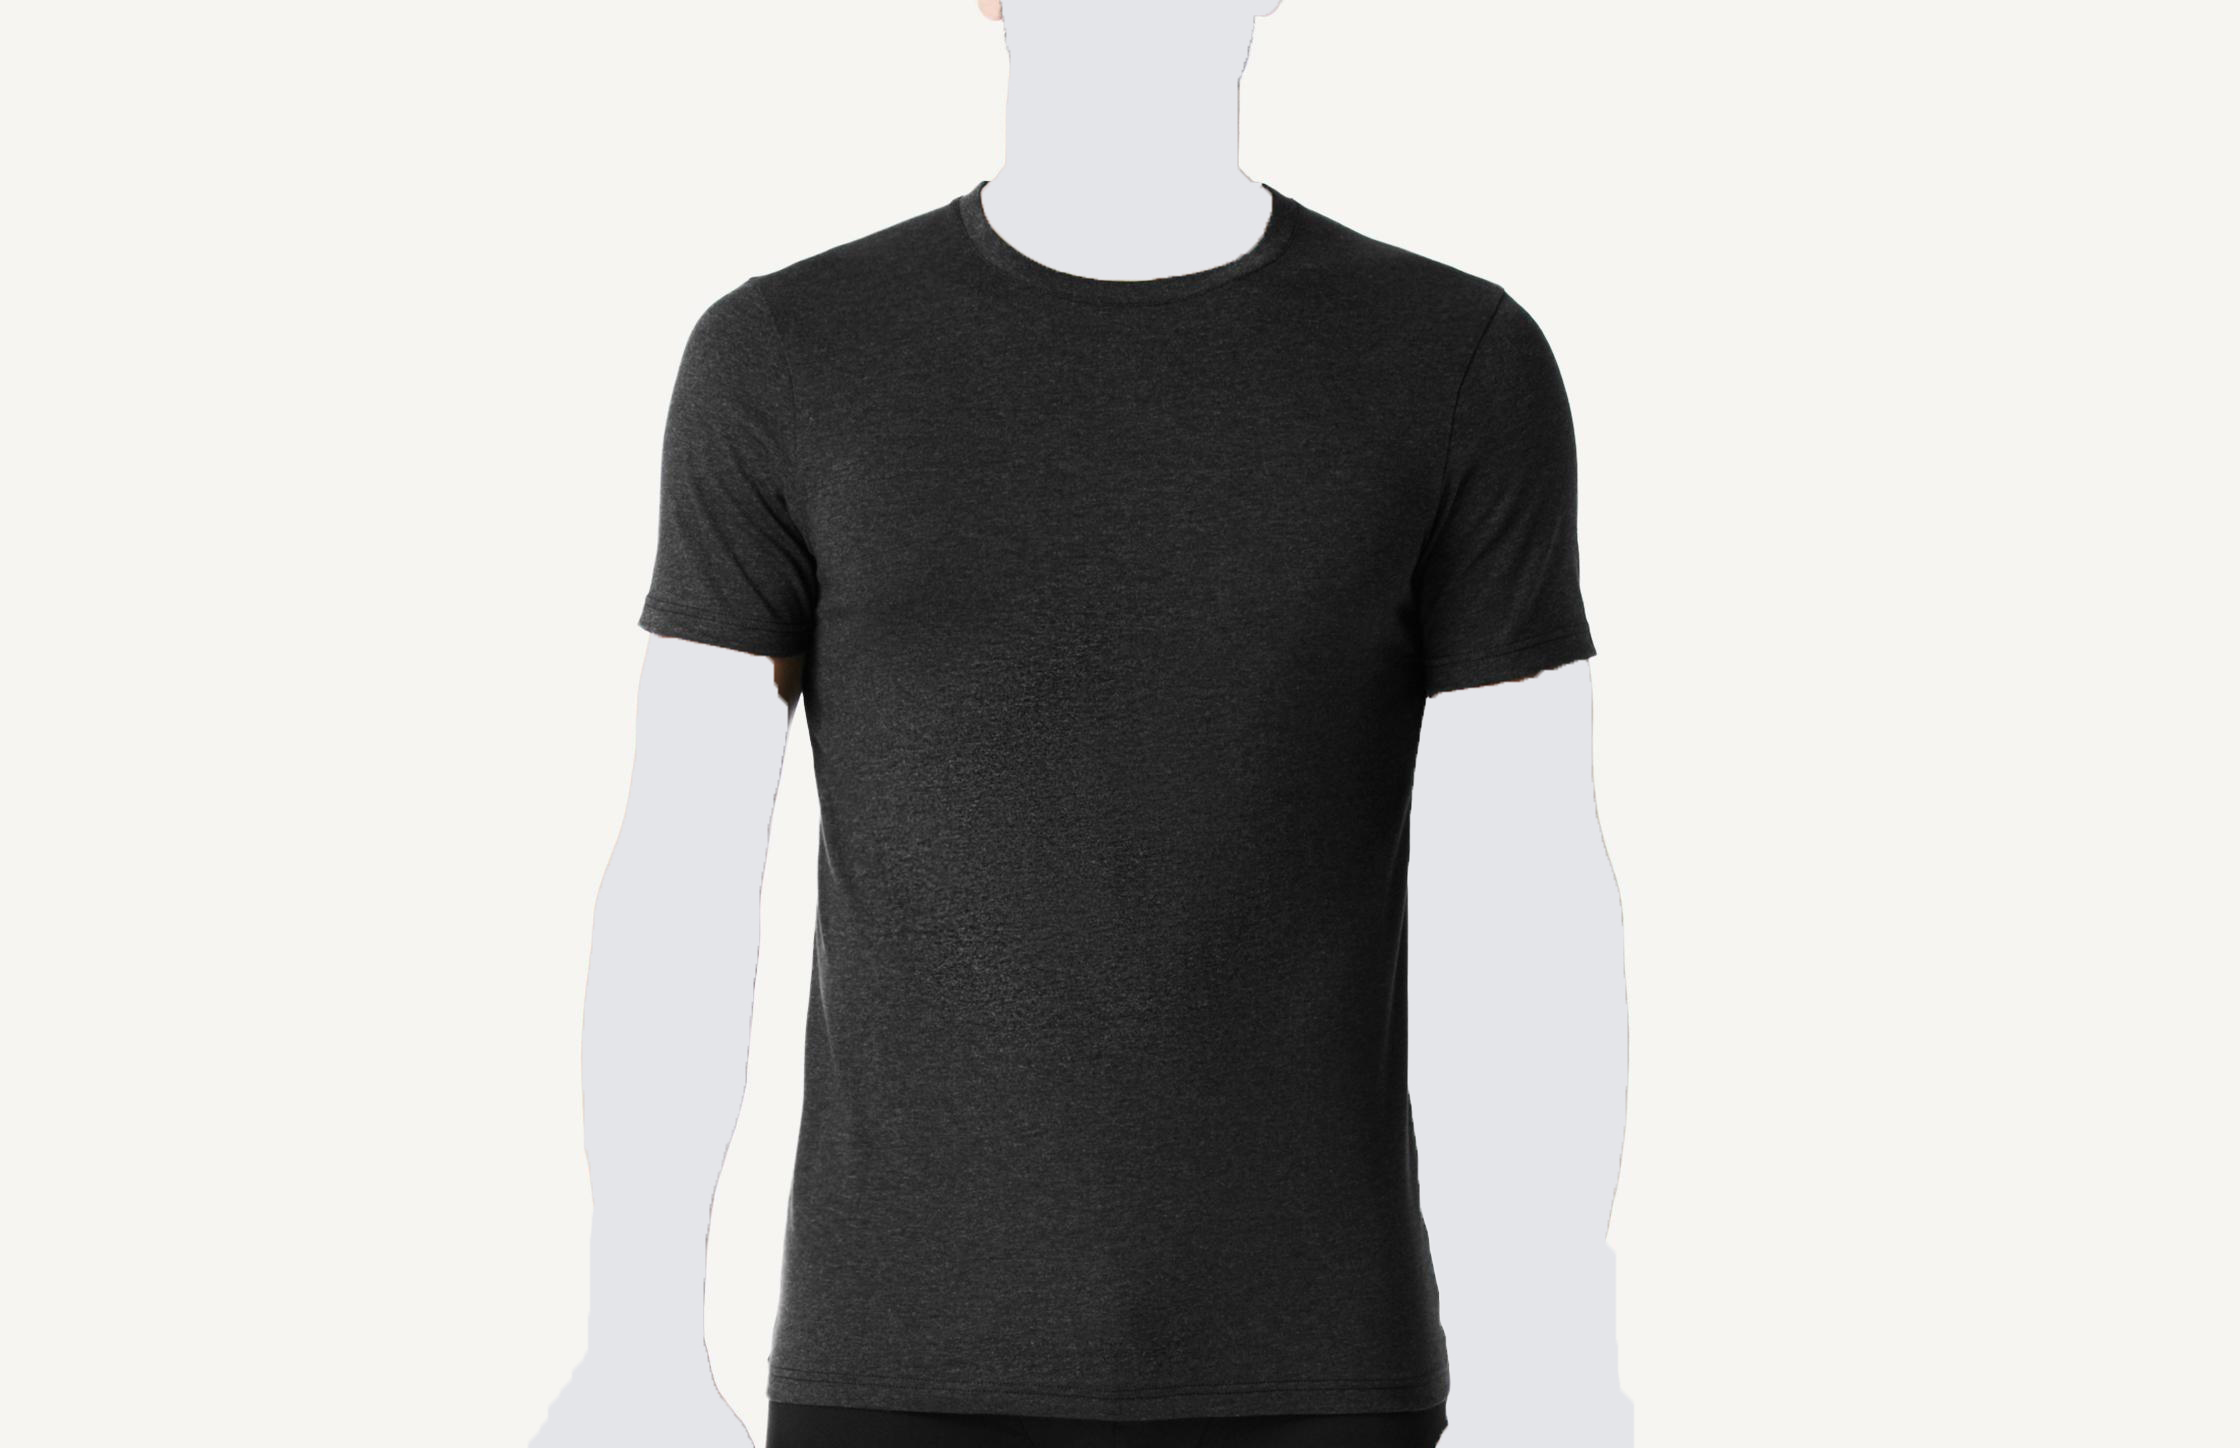teeshirt: (576, 170, 1675, 1430)
